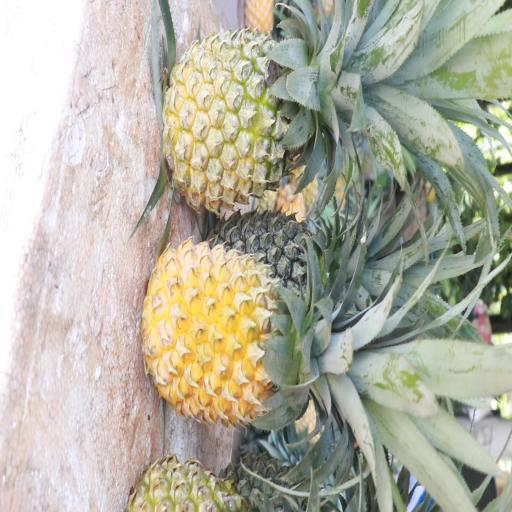------------------------------: (168, 27, 314, 208)
Pineapple - v8 v1: (148, 241, 333, 429)
